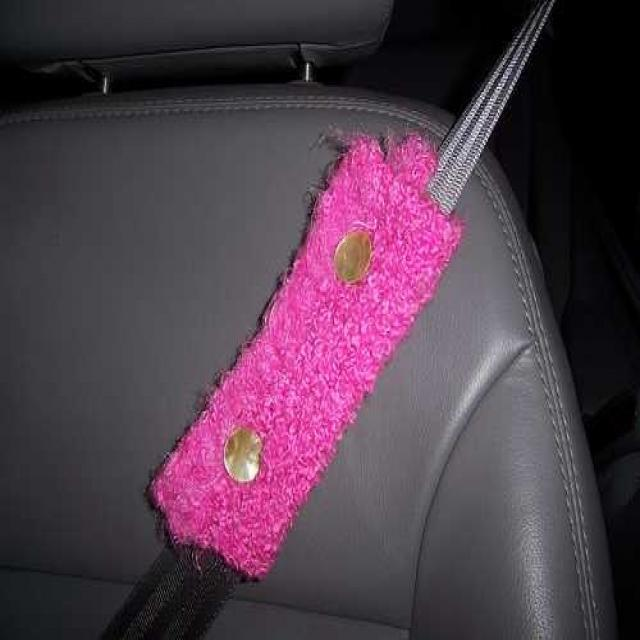seatbelt: (154, 28, 546, 586)
